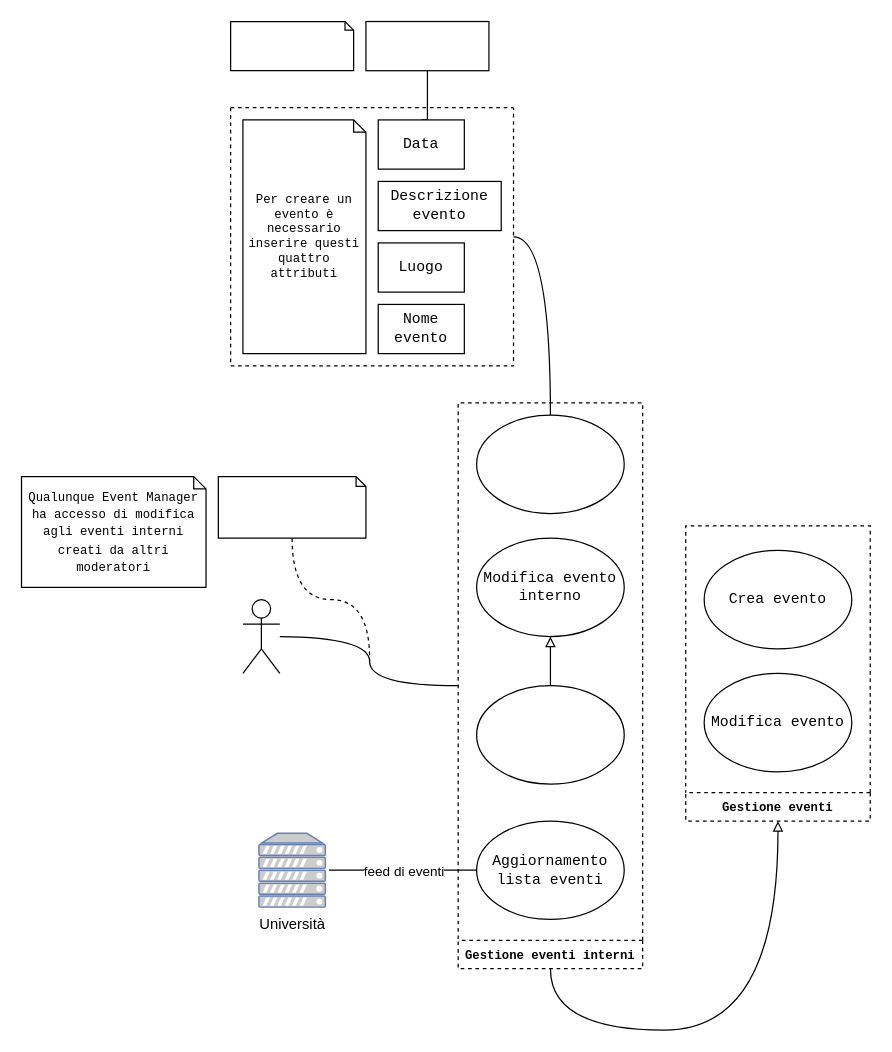
Some shapes in this 892 by 1052 pixel diagram are drawn without their labels. The centre of each missing label's shape, as x and y in pixels:
Crea evento interno: the point at 549,464
Elimina evento interno: the point at 549,734
Event Manager: the point at 261,635
Evento con ripetizione?: the point at 427,45
Questo attributo è opzionale: the point at 291,45
Richiede che il login sia stato effettuato: the point at 291,506
